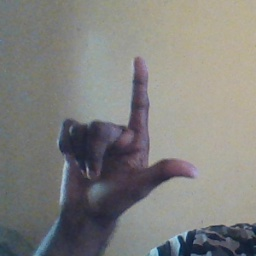L: (55, 56, 200, 210)
